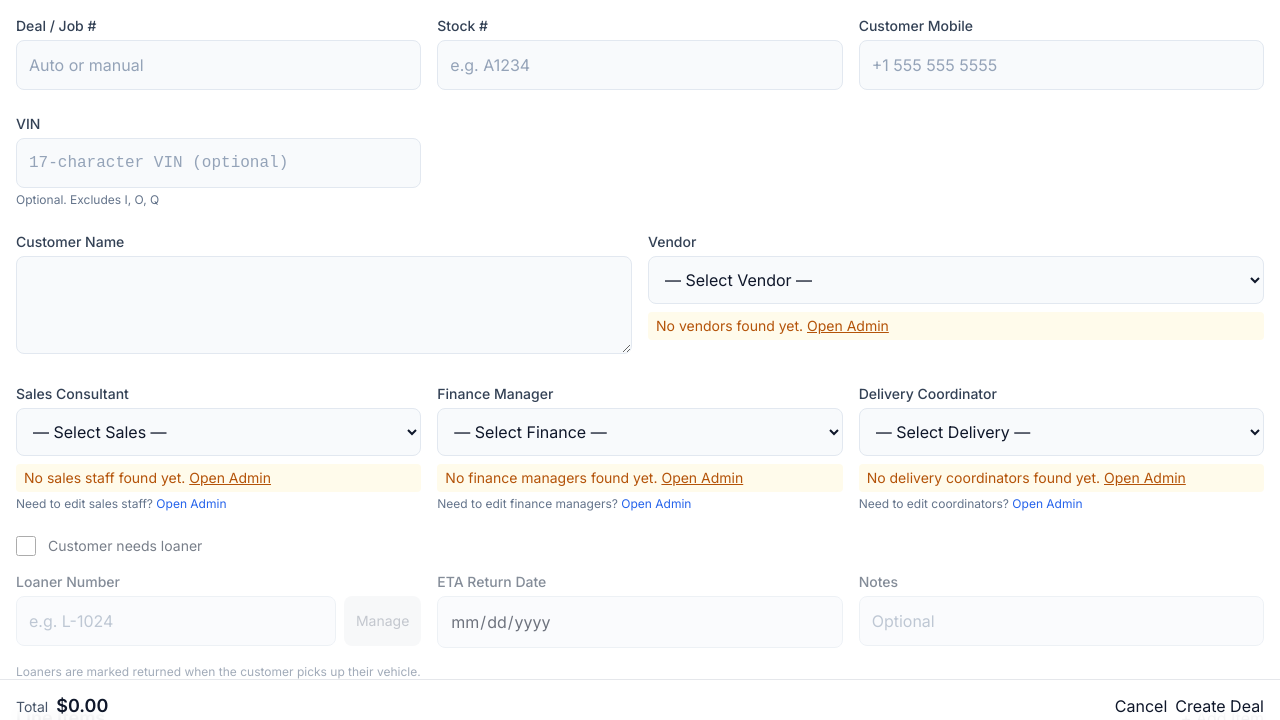
Test: DealForm Loaner Management Integration › renders loaner controls disabled by default and enables after checking
Check: the button with test id "manage-loaners-btn" is disabled, box 344,596 -> 421,646
Check: the field with test id "loaner-number-input" is disabled, box 16,596 -> 336,646
Click the checkbox with test id "loaner-checkbox": (26, 546) 16,536 -> 36,556
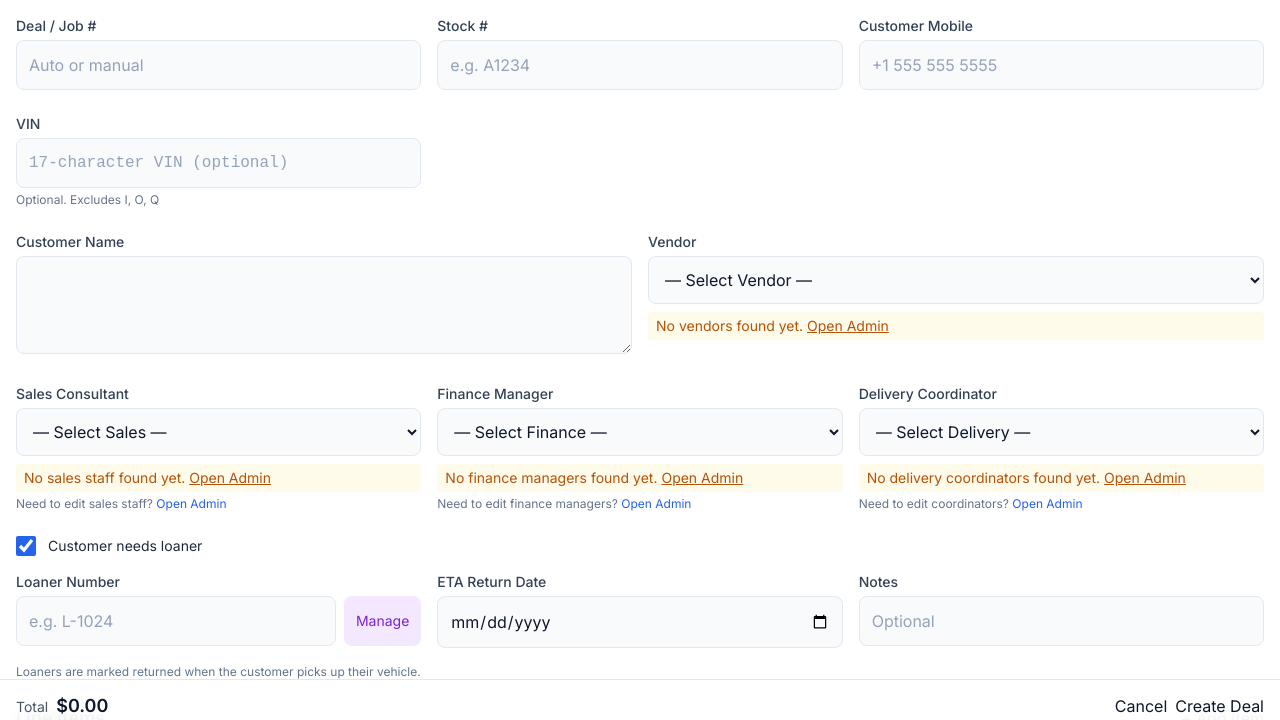
Check: the button with test id "manage-loaners-btn" is enabled, box 344,596 -> 421,646
Check: the field with test id "loaner-number-input" is enabled, box 16,596 -> 336,646
